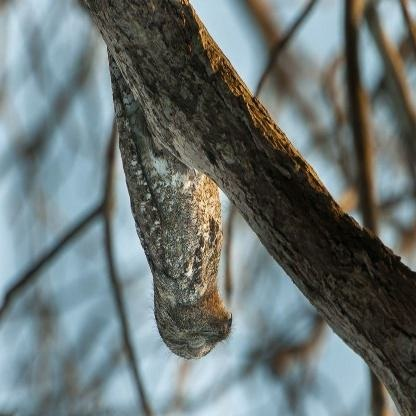Owl: (116, 123, 232, 357)
